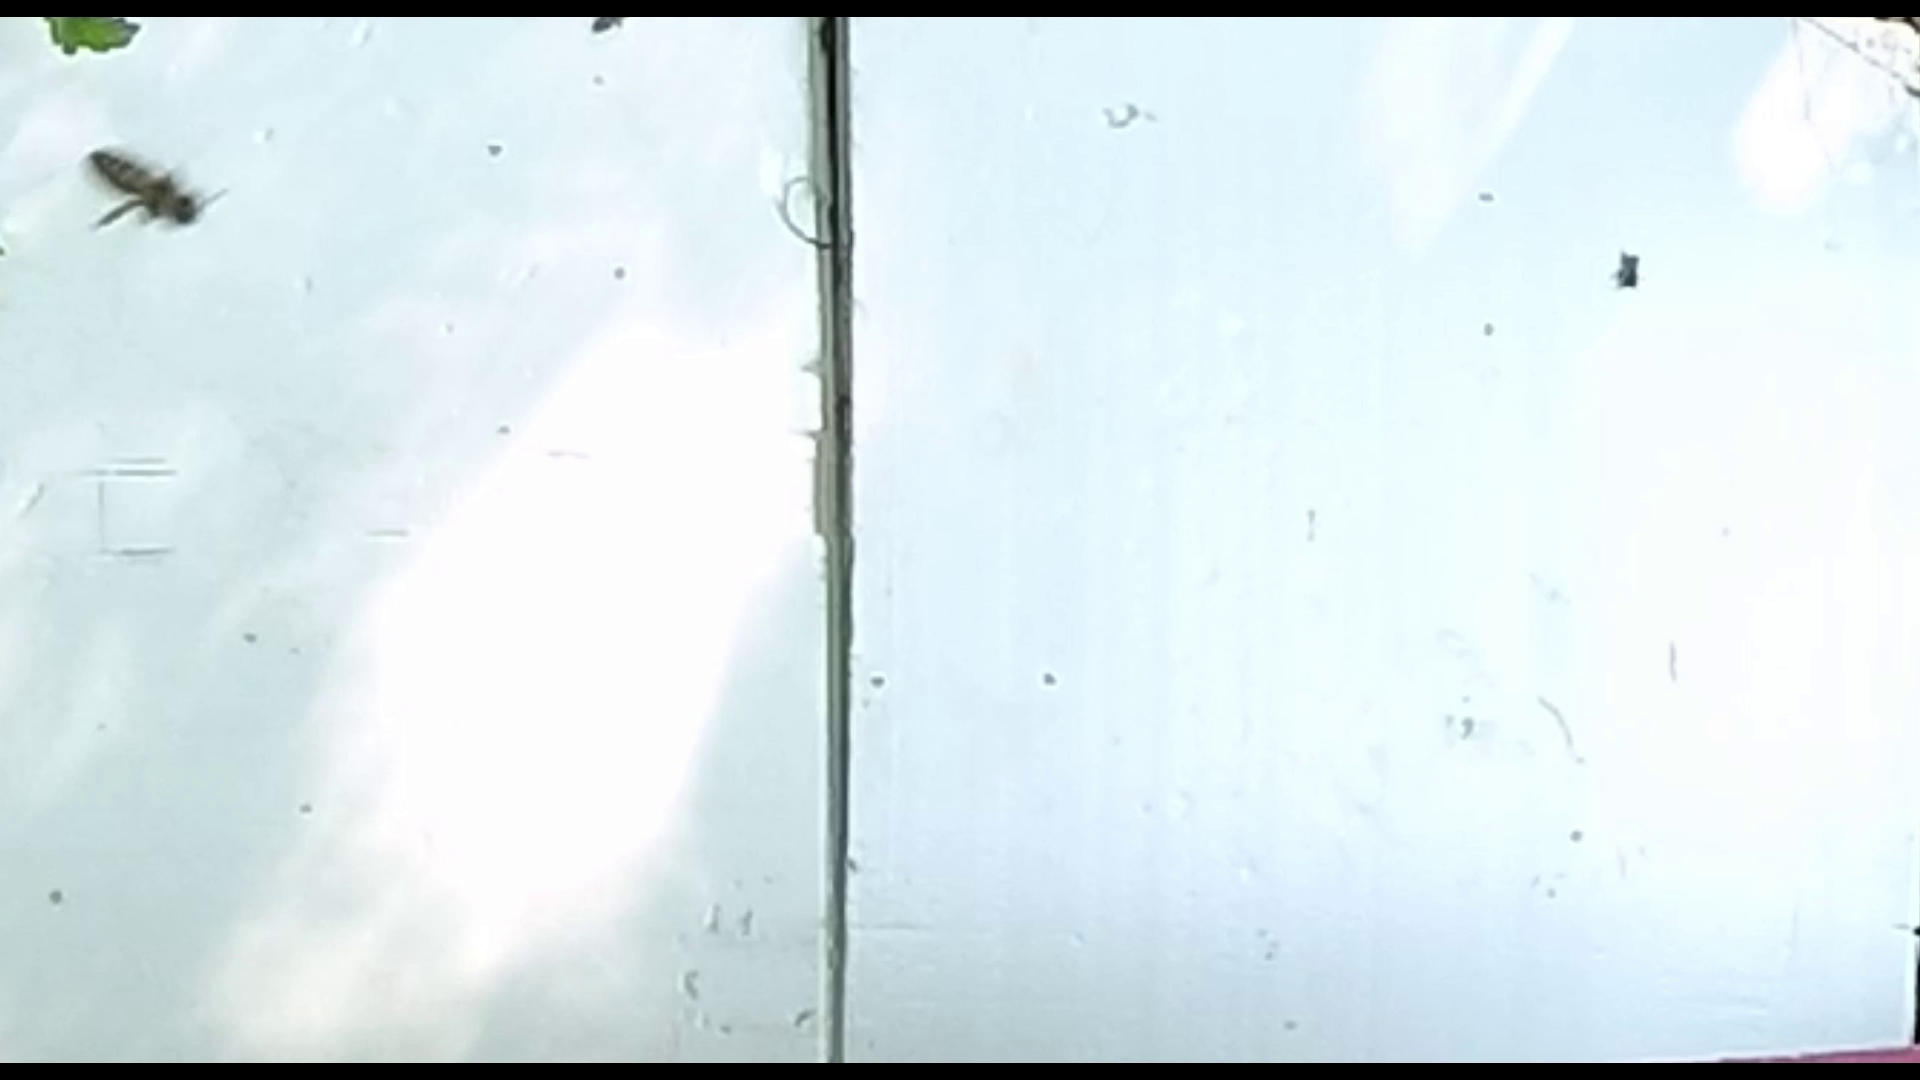Asian_hornets: (66, 125, 235, 252)
